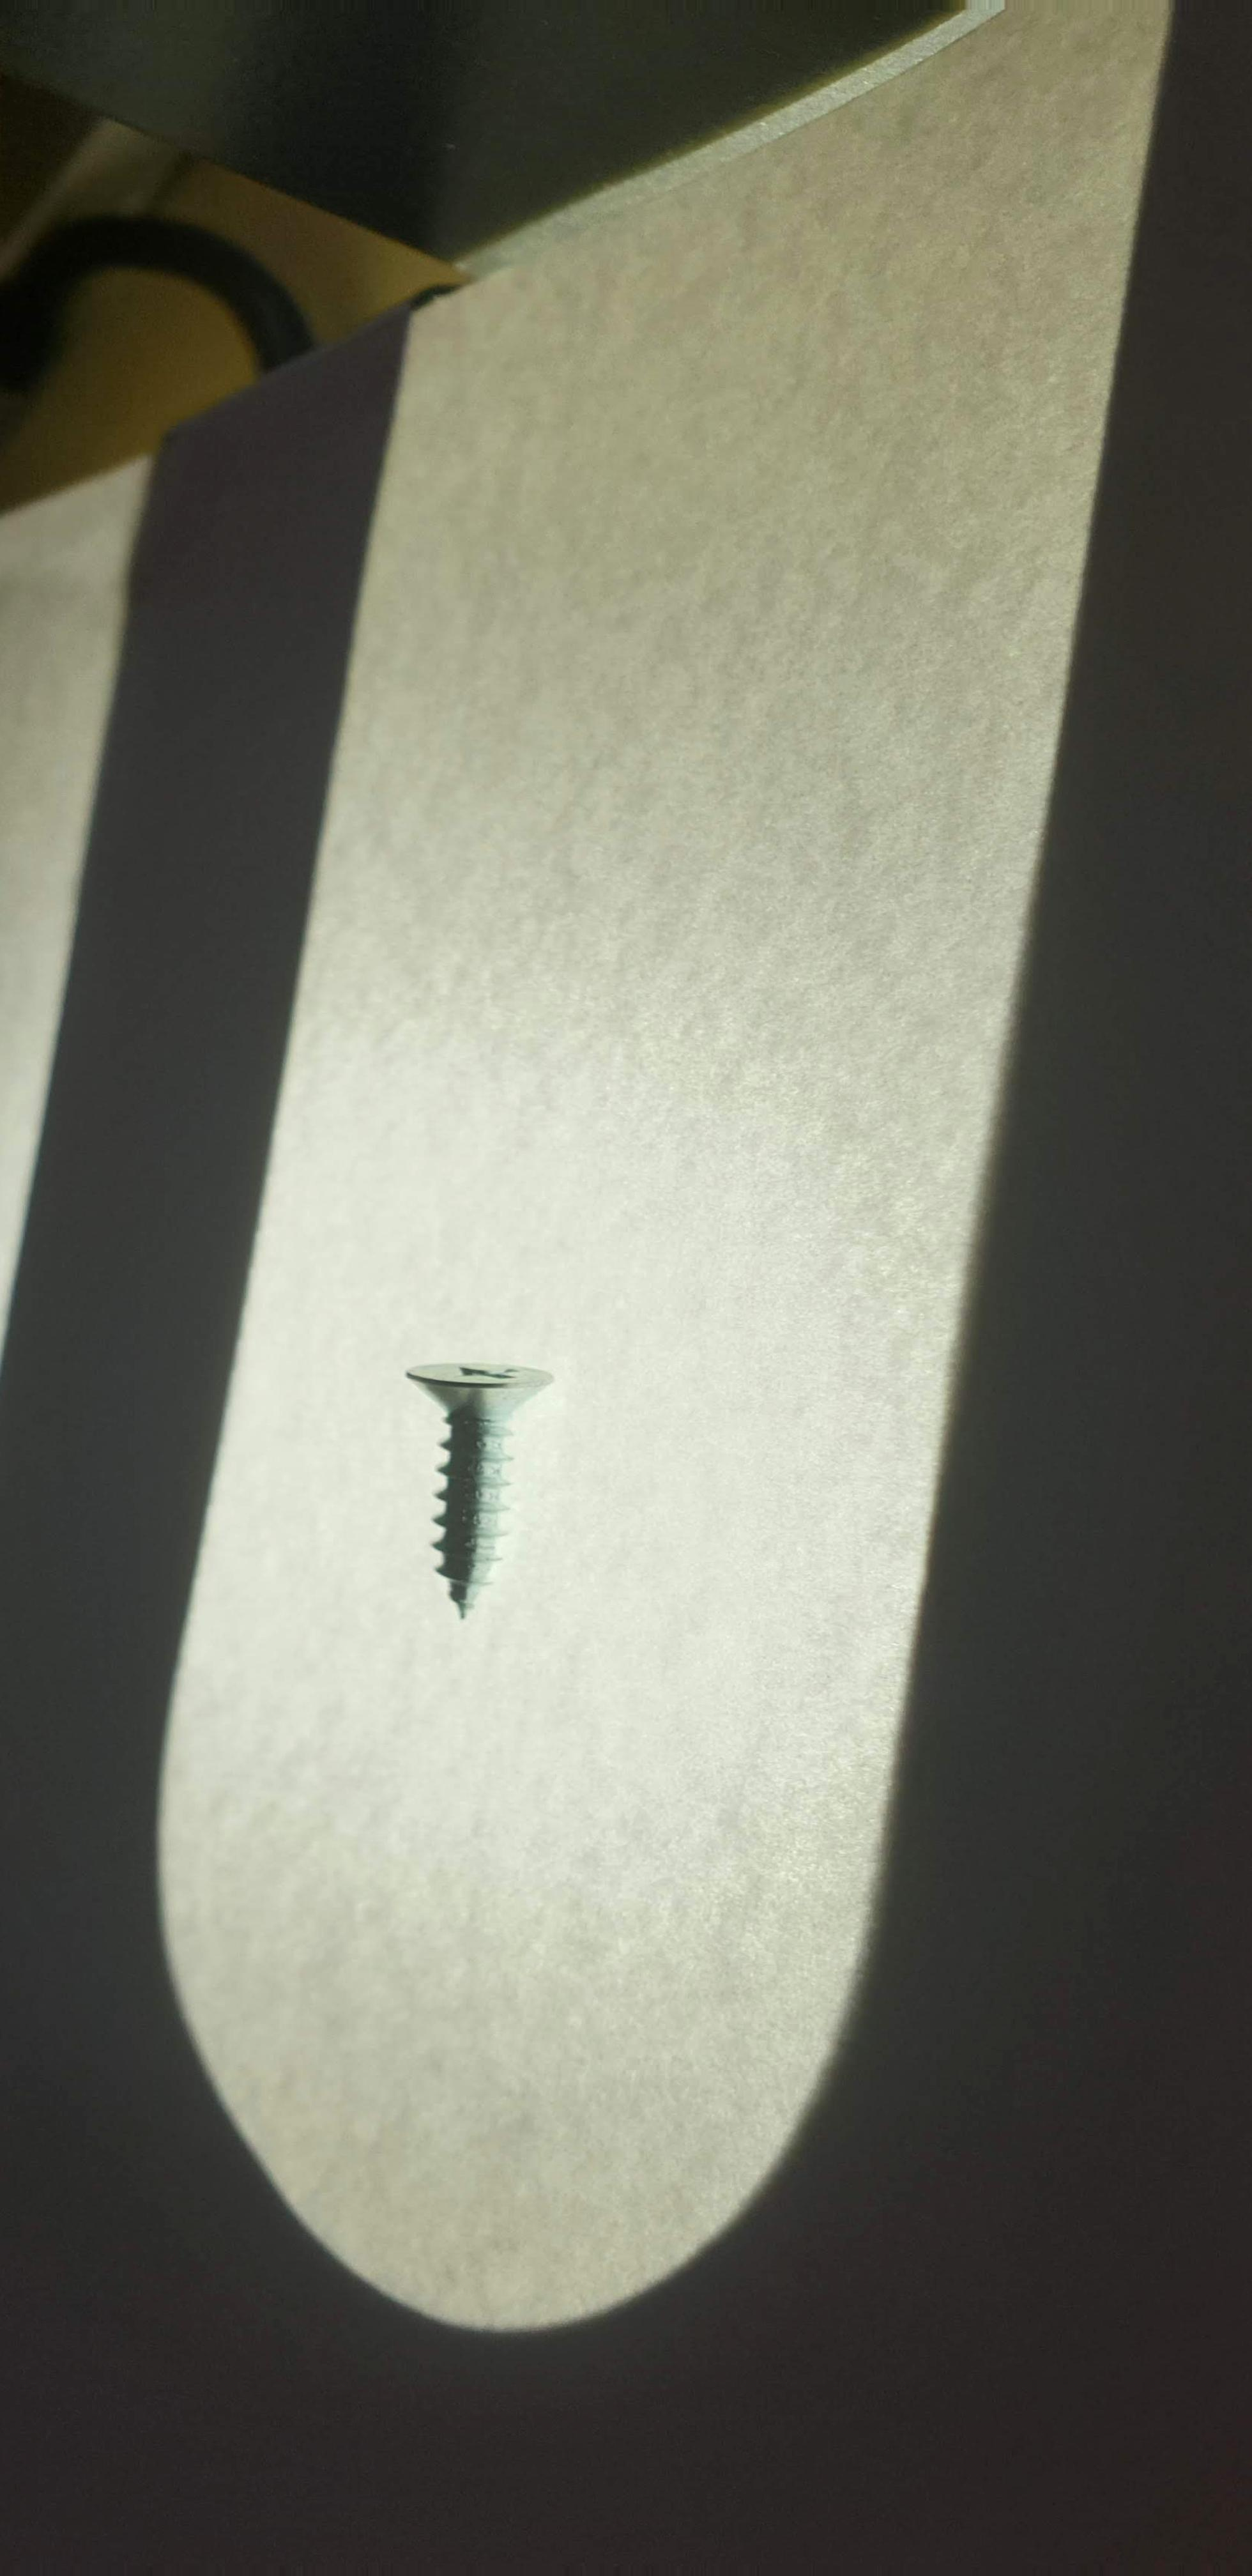S003: (370, 1316, 582, 1644)
